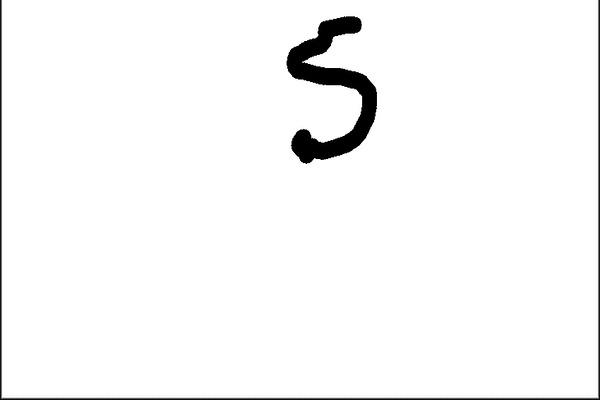S: (272, 9, 378, 165)
